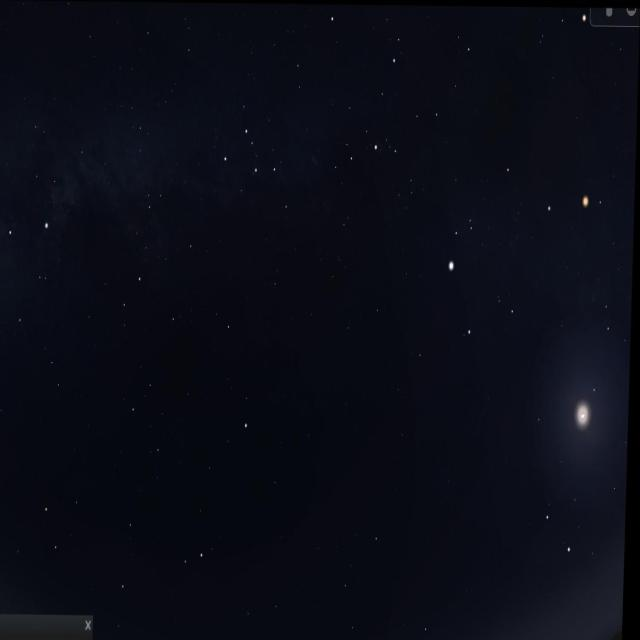cassiopeia: (222, 121, 311, 231)
moon: (557, 367, 611, 458)
